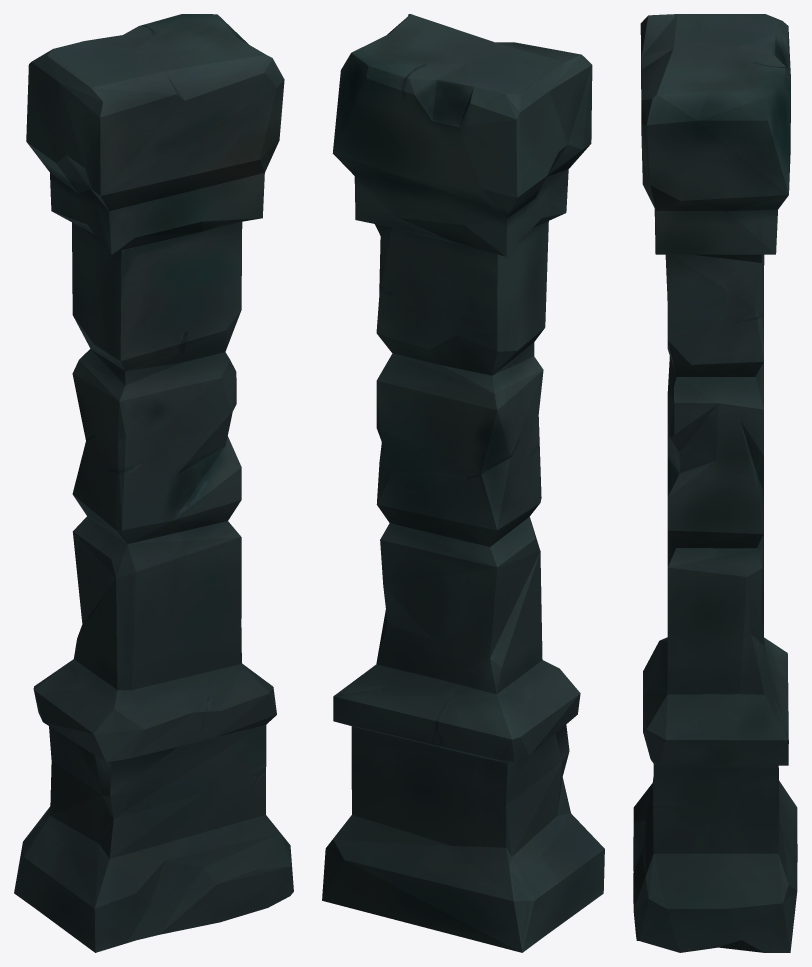
The model's file is Ceiling_Stone_Piller_02.fbx.
3 views of the same model, side by side, from view 1: azimuth 30°, elevation 25°; view 2: azimuth 150°, elevation 25°; view 3: azimuth 270°, elevation 25° (orthographic).
Parts seen in each view (by area): view 1: Ceiling_Stone_Pillar_02; view 2: Ceiling_Stone_Pillar_02; view 3: Ceiling_Stone_Pillar_02.
Boxes of the visible parts, box(x1,y1,x2,y2) form: Ceiling_Stone_Pillar_02: box(14, 14, 293, 952); Ceiling_Stone_Pillar_02: box(322, 14, 604, 952); Ceiling_Stone_Pillar_02: box(633, 14, 797, 952).
Size of the model in its own units: 1.31 by 5.13 by 0.8989.
1 material, 1 textured.
